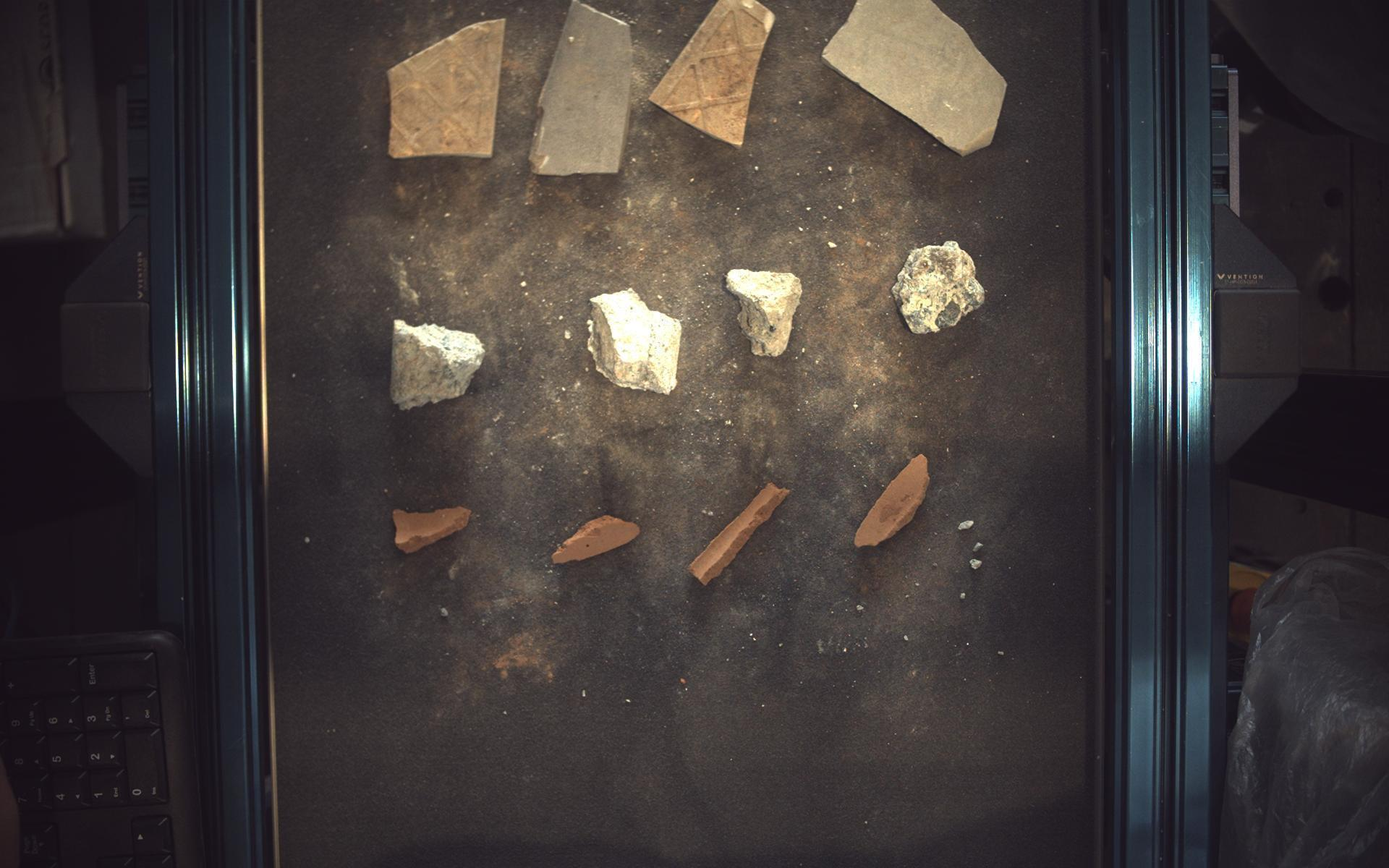brick: (691, 483, 791, 585), (856, 454, 931, 548), (552, 516, 641, 564), (392, 507, 471, 553)
concrete: (587, 289, 682, 394), (893, 240, 987, 333), (390, 319, 485, 410), (727, 269, 804, 357)
tile: (824, 1, 1008, 155), (651, 1, 776, 145), (530, 1, 632, 174), (388, 17, 506, 157)
